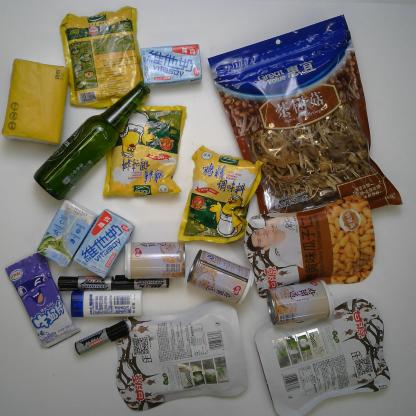Alcohol: (32, 80, 152, 202)
Candy: (4, 252, 82, 349)
Canned Food: (186, 249, 256, 306), (265, 279, 334, 326), (123, 239, 186, 280)
Dried Food: (206, 13, 412, 218)
Dried Fruit: (254, 298, 392, 416), (116, 299, 249, 412), (241, 193, 375, 300)
Milk: (72, 207, 136, 281), (36, 199, 100, 270), (140, 42, 203, 87)
Personal Hygiene: (70, 289, 142, 318)
Seasoner: (58, 4, 144, 110), (176, 146, 268, 245), (101, 103, 189, 199)
Stationery: (74, 320, 130, 355), (56, 275, 115, 291), (112, 275, 171, 290)
Tissue: (0, 57, 71, 148)
